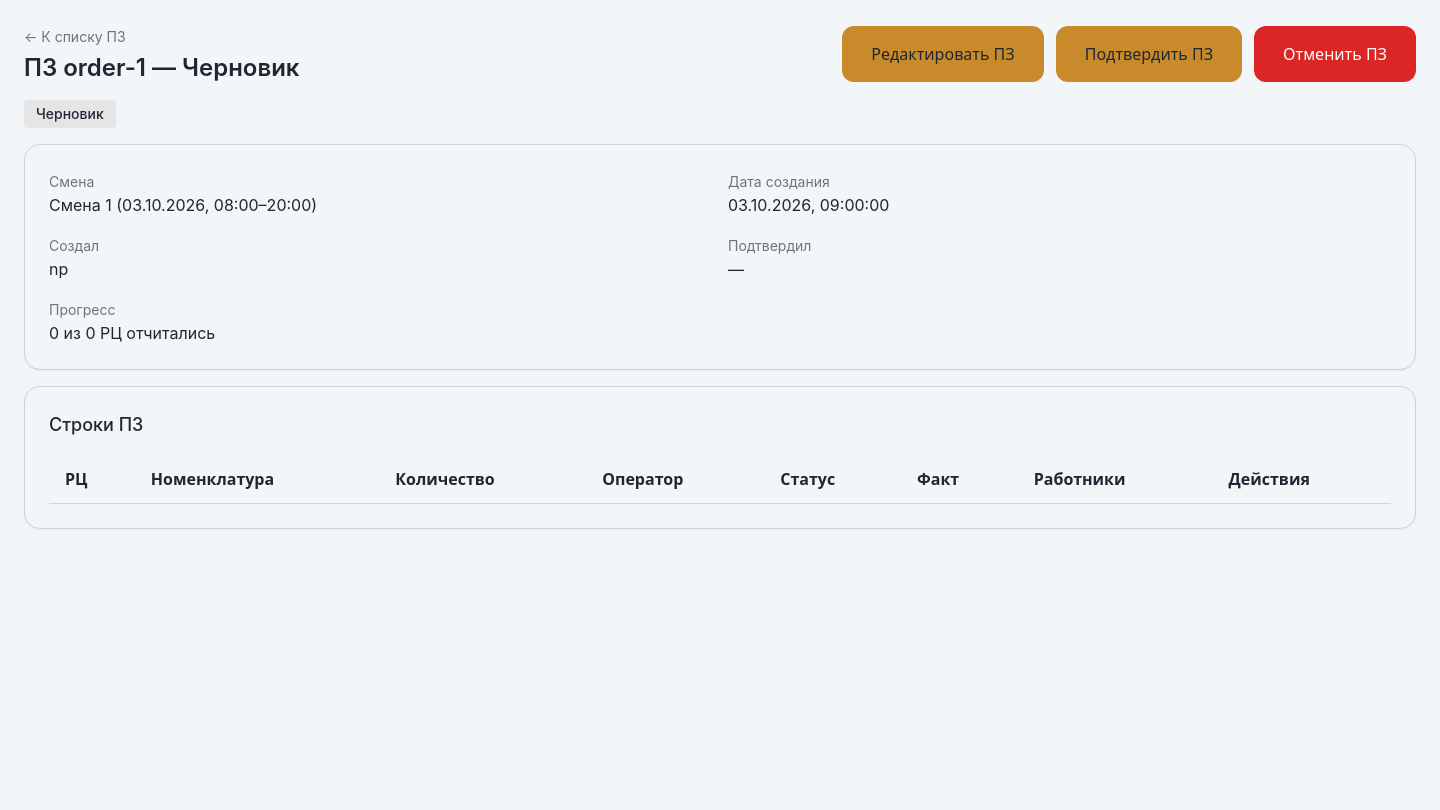
Test: ProductionOrderCard: ошибка подтверждения ПЗ видна пользователю (T-065) › показывает ошибку и не закрывает диалог
What coordinates should you click on to do the following:
click the button "Подтвердить ПЗ"
I would click on:
 (1149, 54)
Its box is x1=1056 y1=26 x2=1242 y2=82.
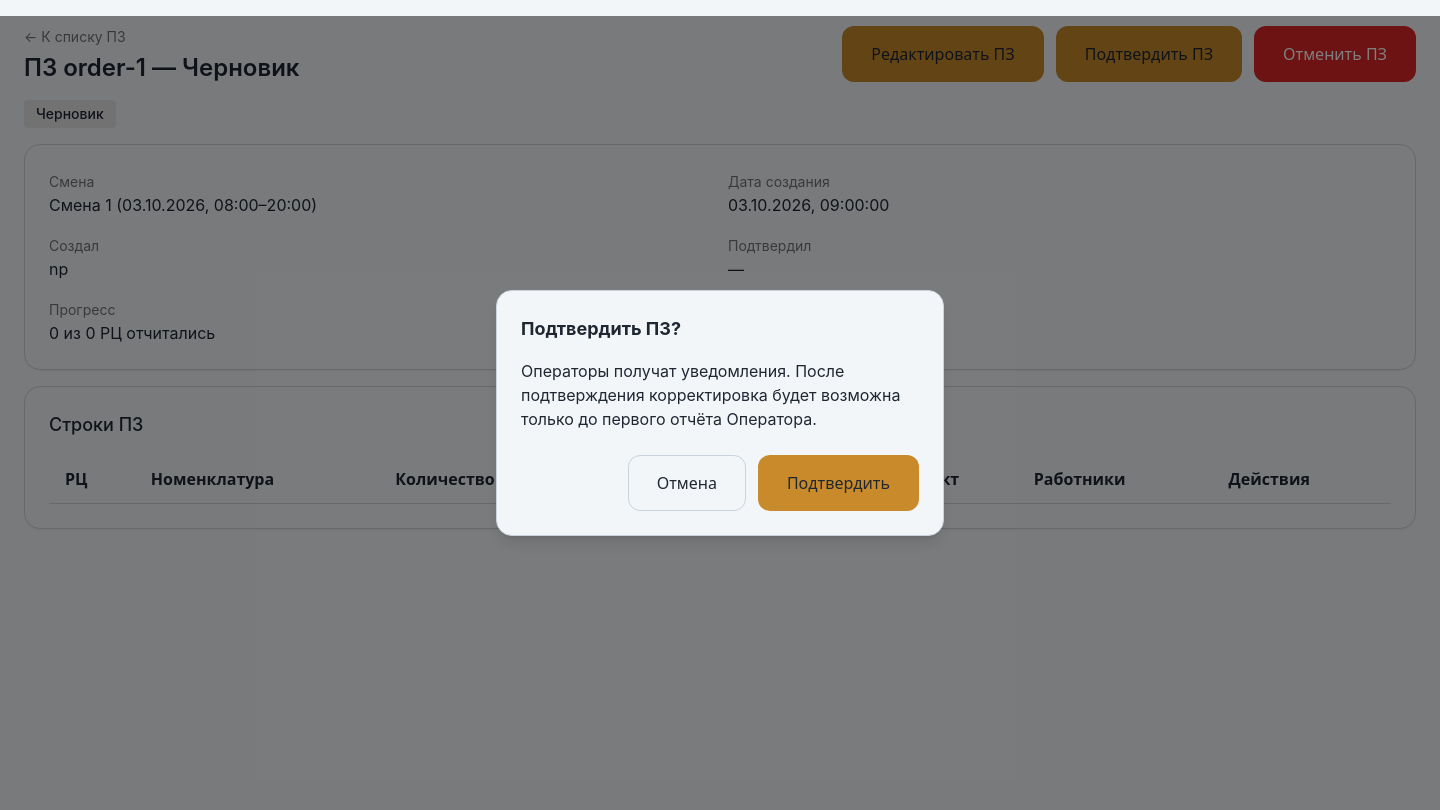
What coordinates should you click on to do the following:
click the button "Подтвердить"
I would click on:
 (838, 483)
Its box is x1=758 y1=455 x2=919 y2=511.
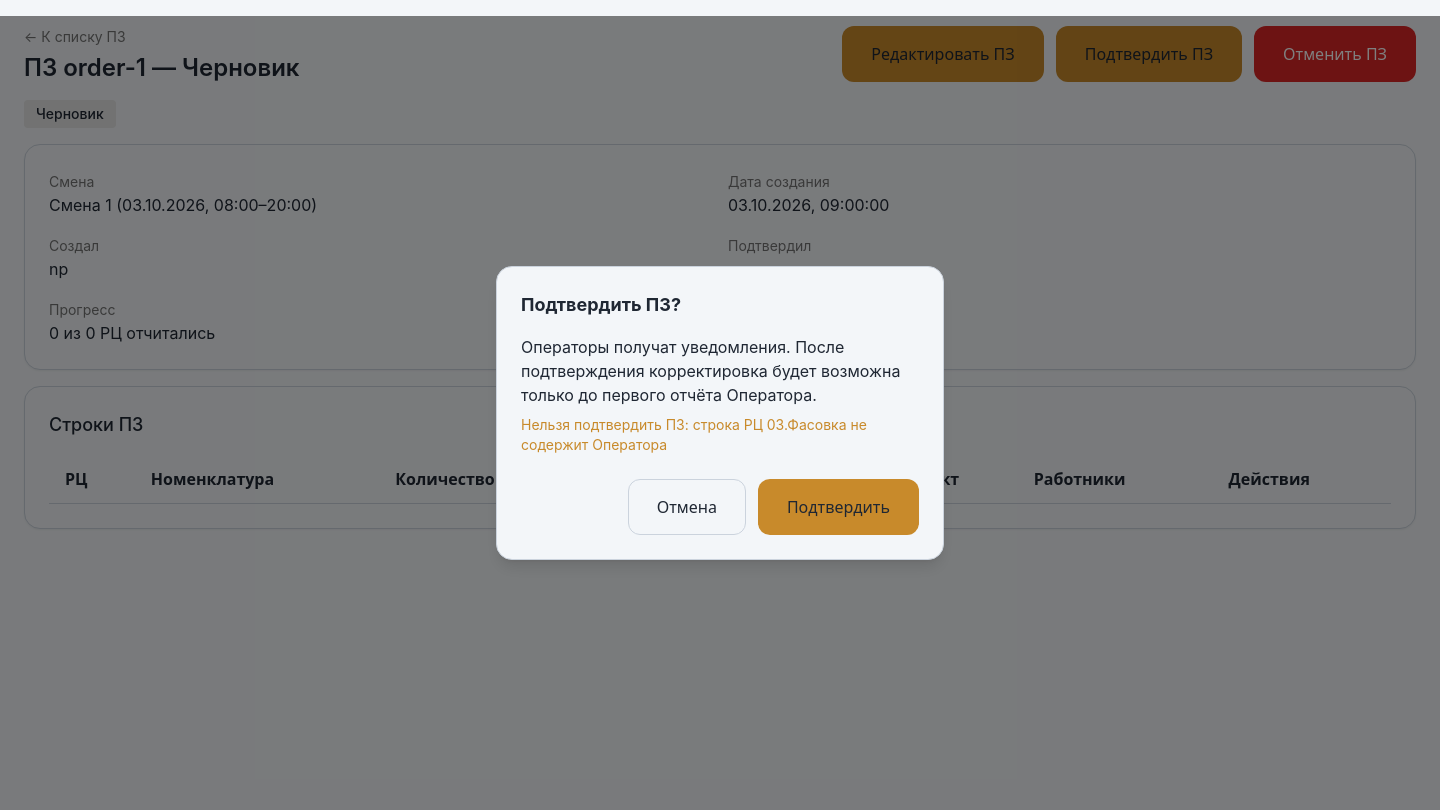
Result: the heading "Подтвердить ПЗ?" is shown at x1=521 y1=294 x2=681 y2=315
Result: the text "Нельзя подтвердить ПЗ" is shown at x1=521 y1=416 x2=867 y2=453
